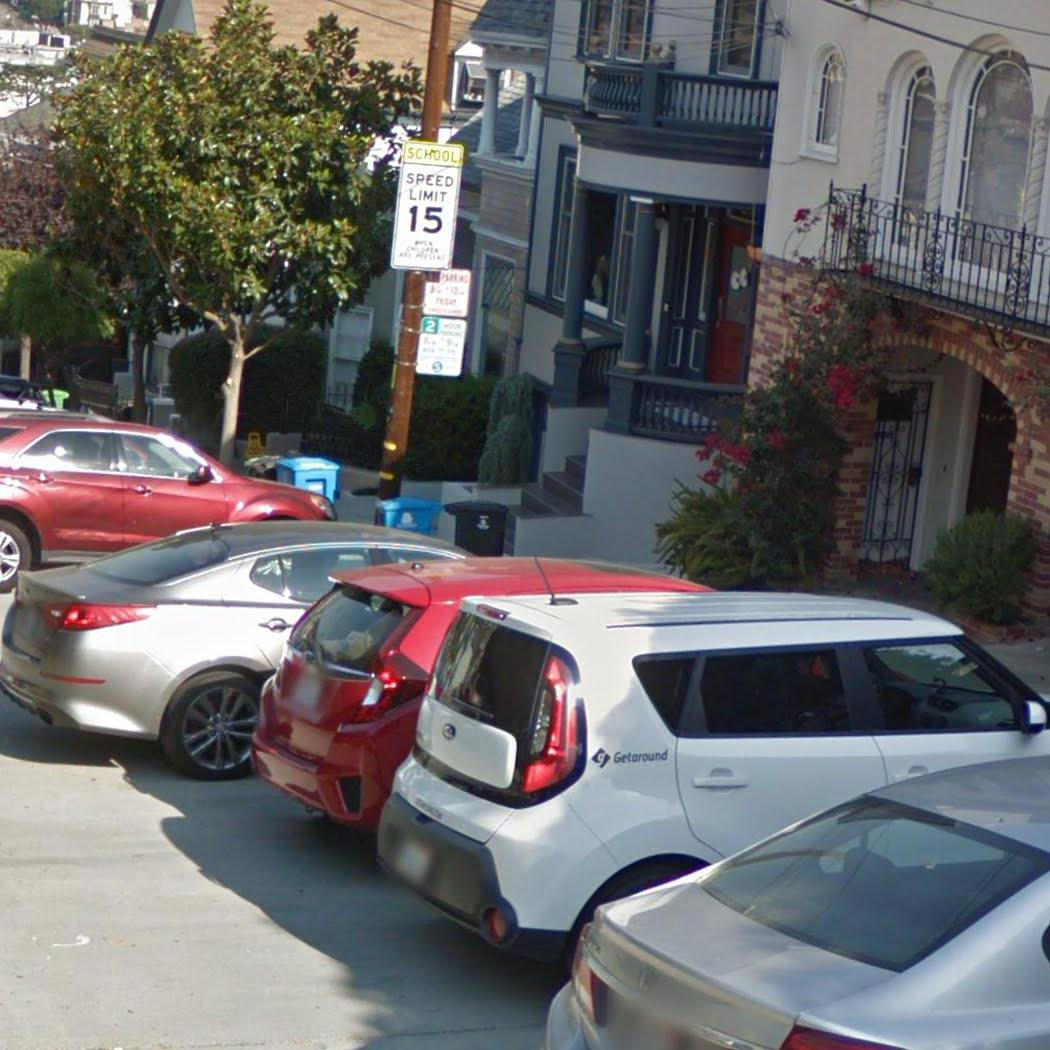2 Hour Parking: (416, 318, 466, 378)
No Parking: (423, 268, 472, 310)
